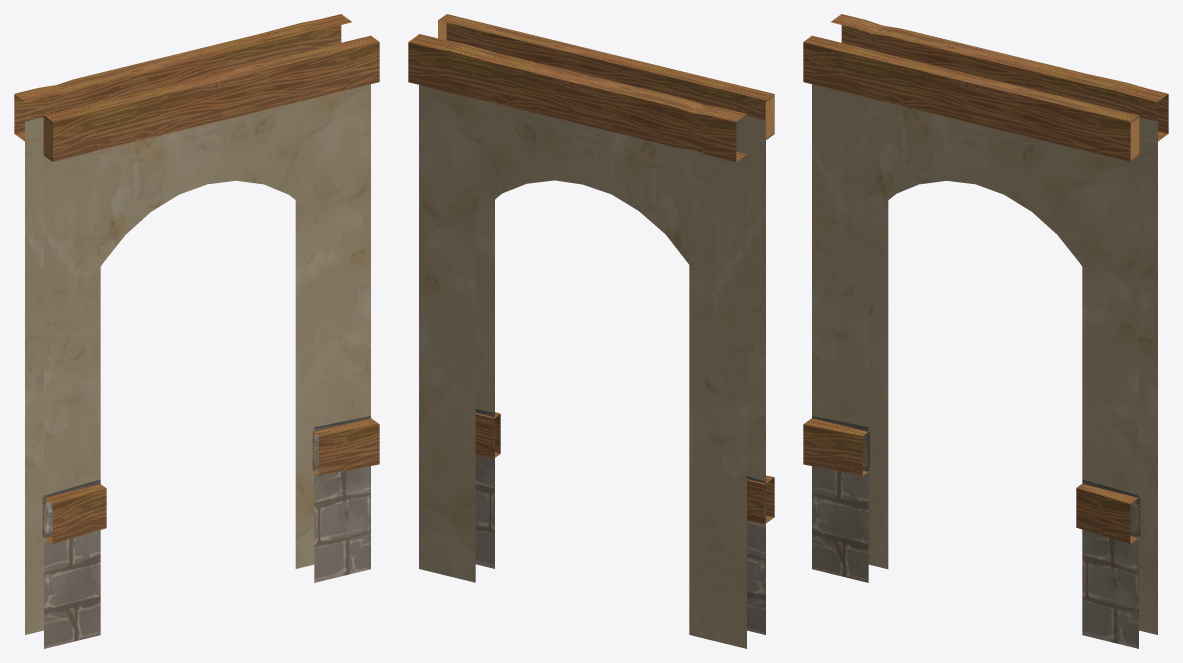
The model's file is Wall_Plaster_Door_Round.gltf.
3 renders of one model, left to right at view 1: azimuth 30°, elevation 25°; view 2: azimuth 150°, elevation 25°; view 3: azimuth 330°, elevation 25°, orthographic.
Visible parts, largest first — view 1: Wall_Plaster_Door_Round; view 2: Wall_Plaster_Door_Round; view 3: Wall_Plaster_Door_Round.
Boxes of the visible parts, x1,y1,x2,y2 form: Wall_Plaster_Door_Round: [14, 14, 379, 648]; Wall_Plaster_Door_Round: [408, 14, 774, 648]; Wall_Plaster_Door_Round: [803, 14, 1168, 648].
Bounding box in the file's own units: 2 × 3.12 × 0.4065.
3 materials, 3 textured.
